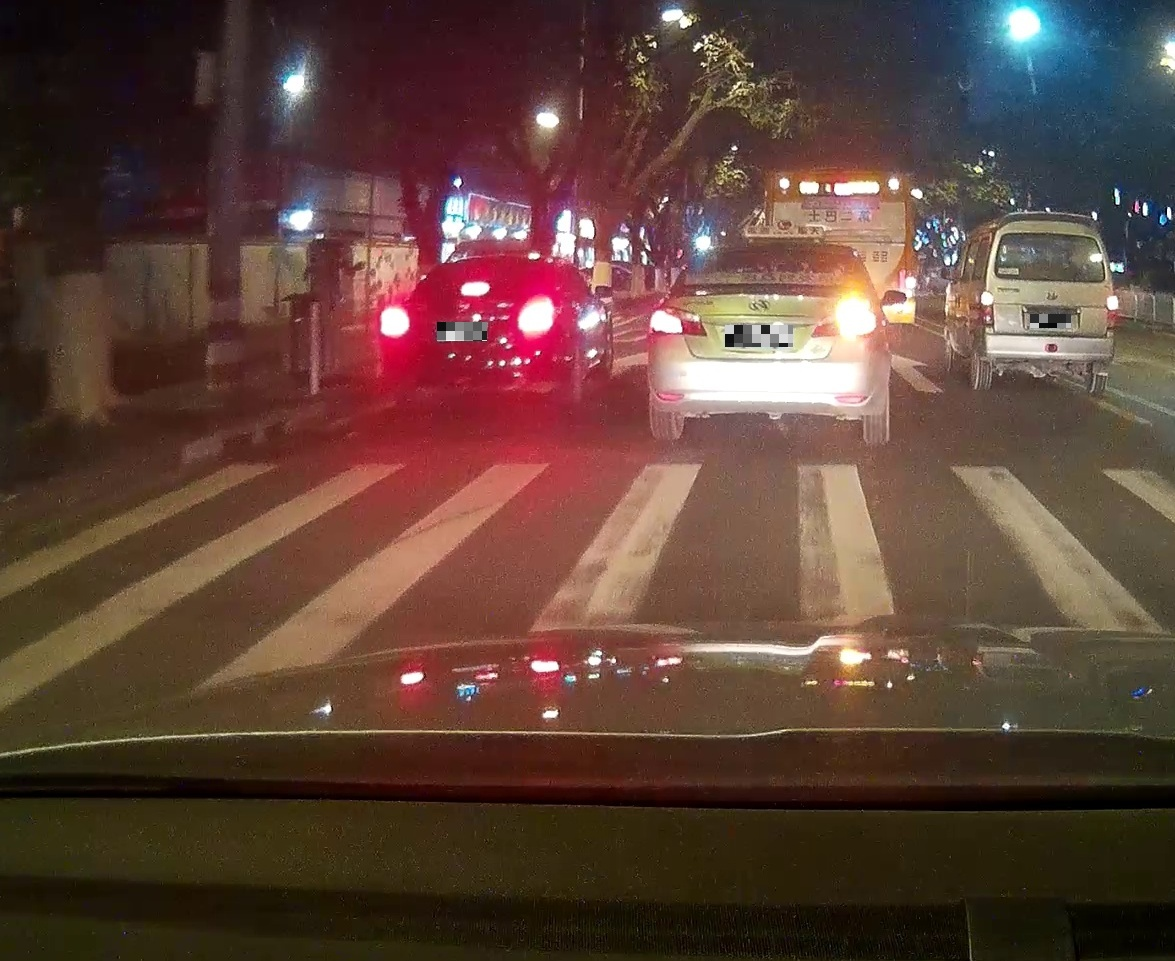L_light: (648, 305, 707, 337), (379, 306, 409, 338), (981, 291, 995, 326)
R_light: (812, 293, 883, 337), (517, 294, 555, 334), (1105, 296, 1119, 327)
T_light: (460, 281, 490, 296), (759, 249, 796, 259), (1041, 232, 1064, 240)
night-no: (378, 253, 569, 405), (980, 212, 1119, 392)
night-right: (648, 242, 886, 444)
plate_1: (437, 322, 487, 341)
plate_2: (725, 325, 793, 347)
plate_3: (1030, 314, 1071, 328)
